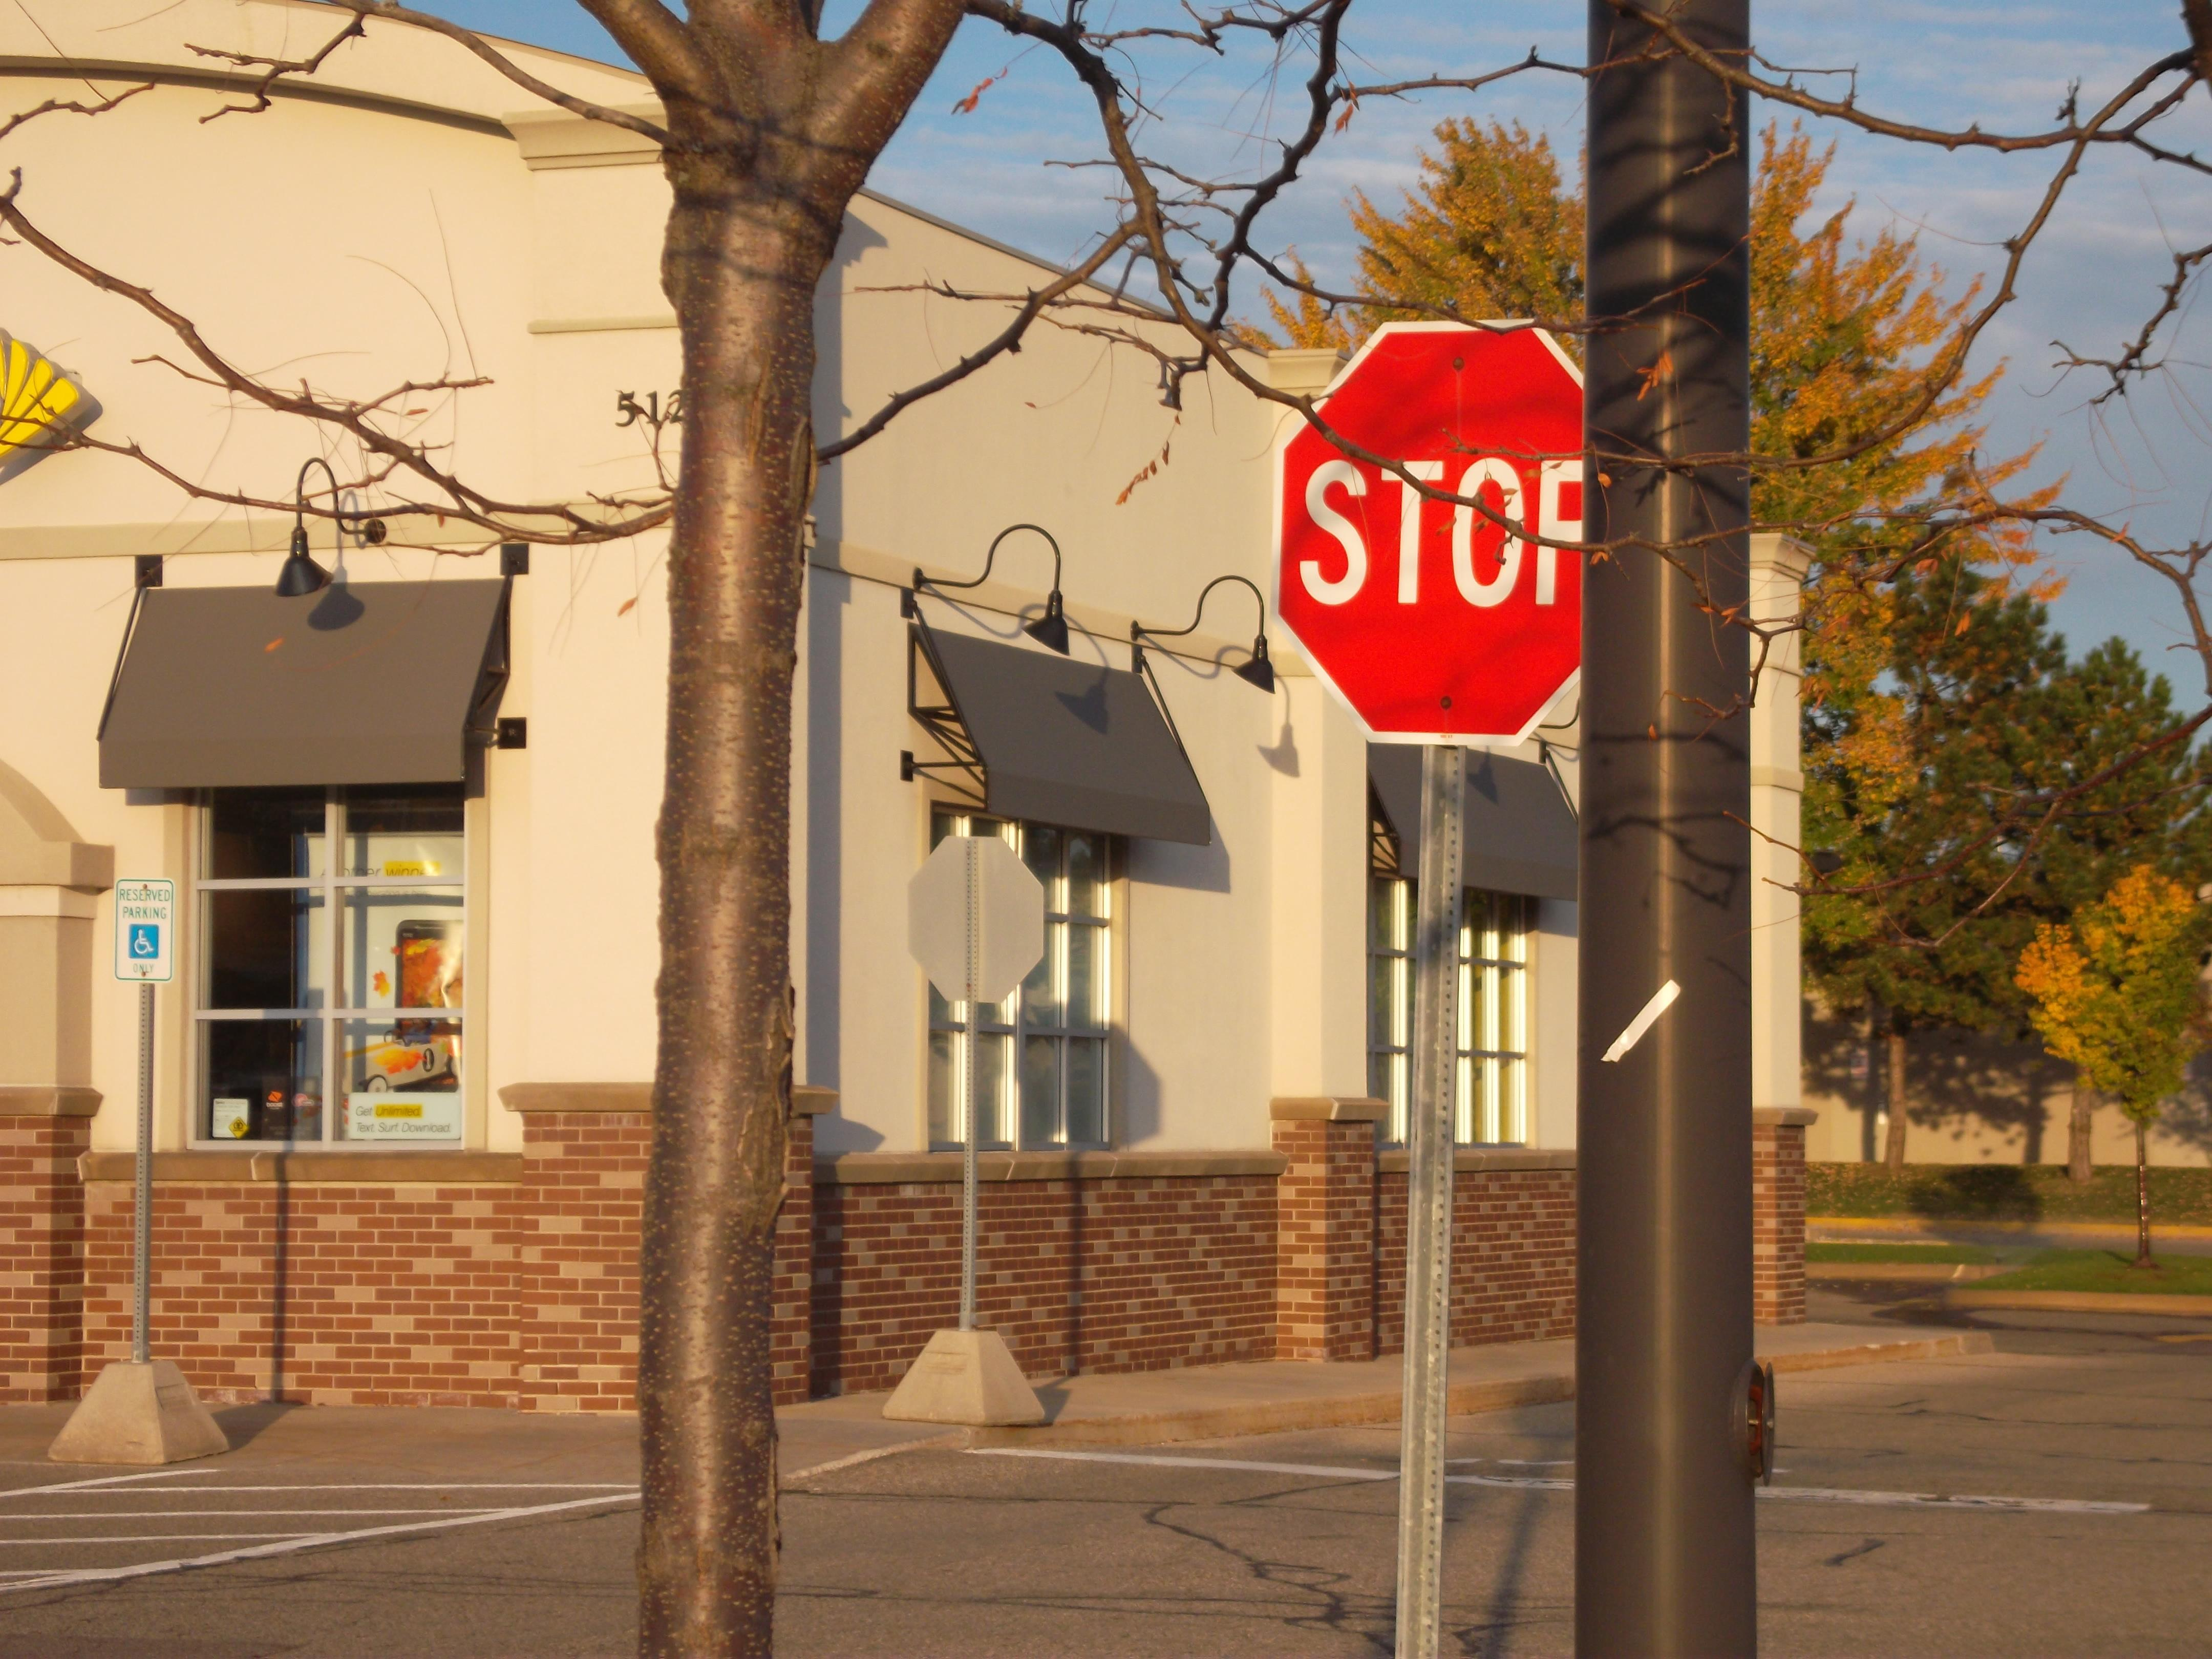stop: (1282, 324, 1592, 735)
